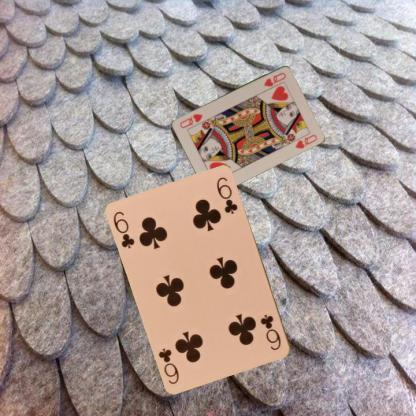6c: (111, 208, 136, 250), (258, 311, 282, 352)
Qh: (261, 70, 287, 88)
